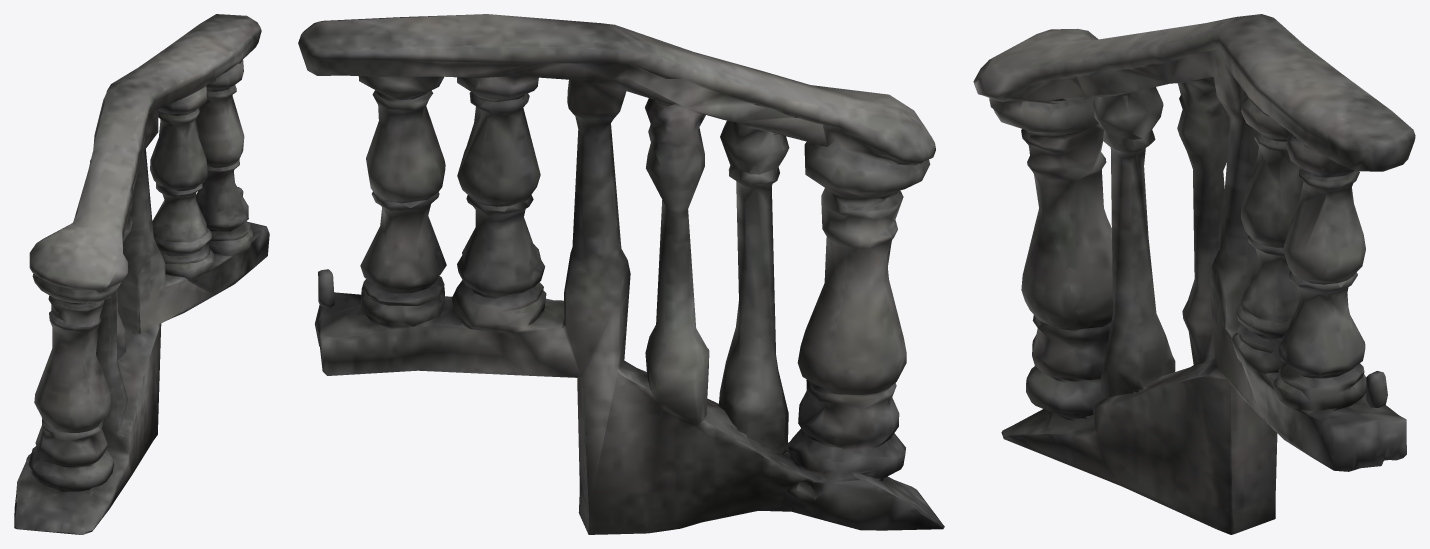
File: plain-granite-balustrade-v001.glb
The picture shows the model from 3 angles, left to right: view 1: azimuth 30°, elevation 25°; view 2: azimuth 150°, elevation 25°; view 3: azimuth 270°, elevation 25°; orthographic projection. The views are drawn at different scales.
Visible parts, largest first — view 1: plain-granite-balustrade; view 2: plain-granite-balustrade; view 3: plain-granite-balustrade.
Boxes of the visible parts, x1,y1,x2,y2 form: plain-granite-balustrade: [14, 14, 269, 534]; plain-granite-balustrade: [298, 14, 944, 534]; plain-granite-balustrade: [973, 14, 1415, 534].
Size of the model in its own units: 1.02 by 0.9923 by 0.7882.
1 material, 1 textured.
